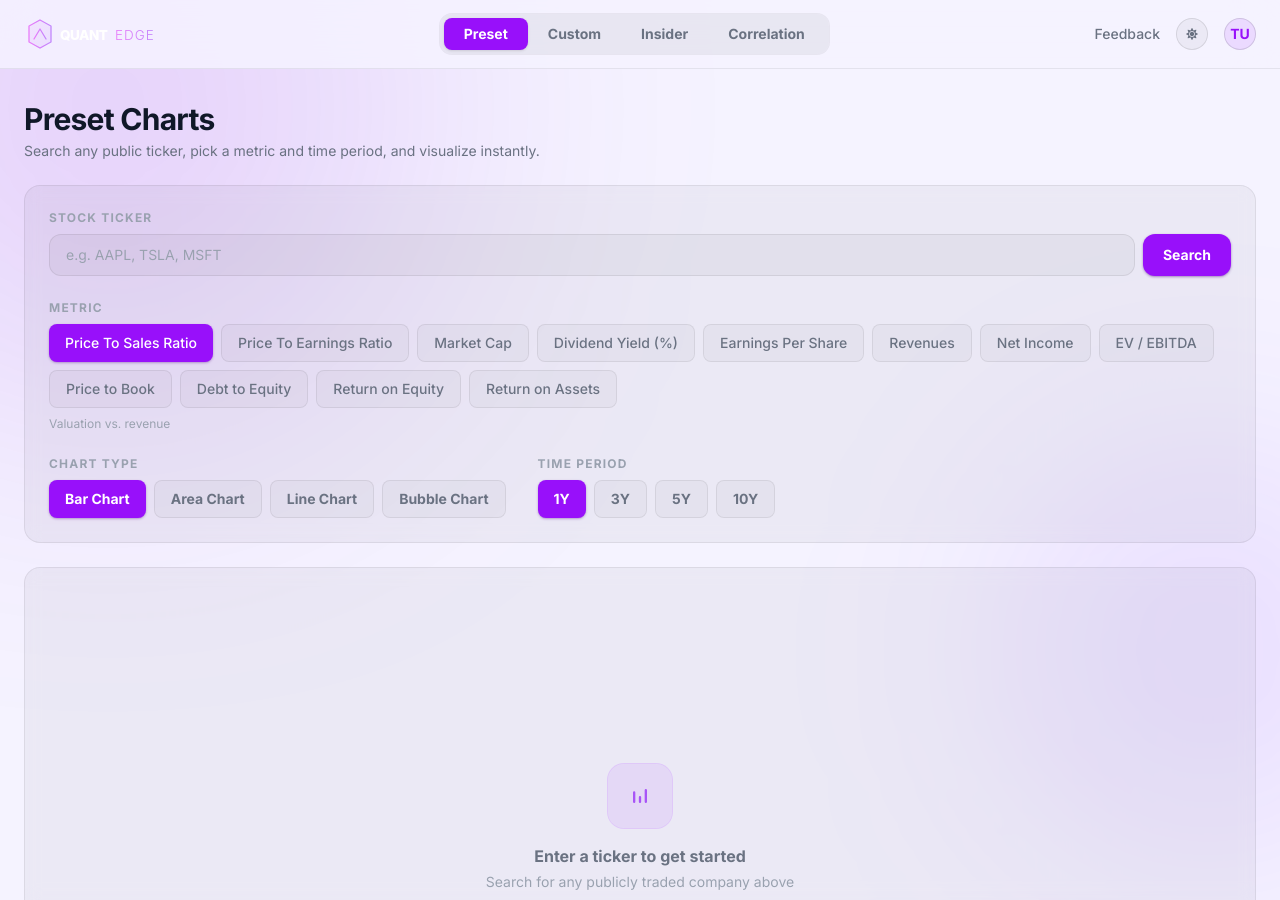
PresetChartsPage — bubble chart mode › shows "Add tickers to get started" empty state in bubble mode
Click the button "Bubble Chart". click: (444, 499)
box: [382, 480, 506, 518]
(page scrolled)
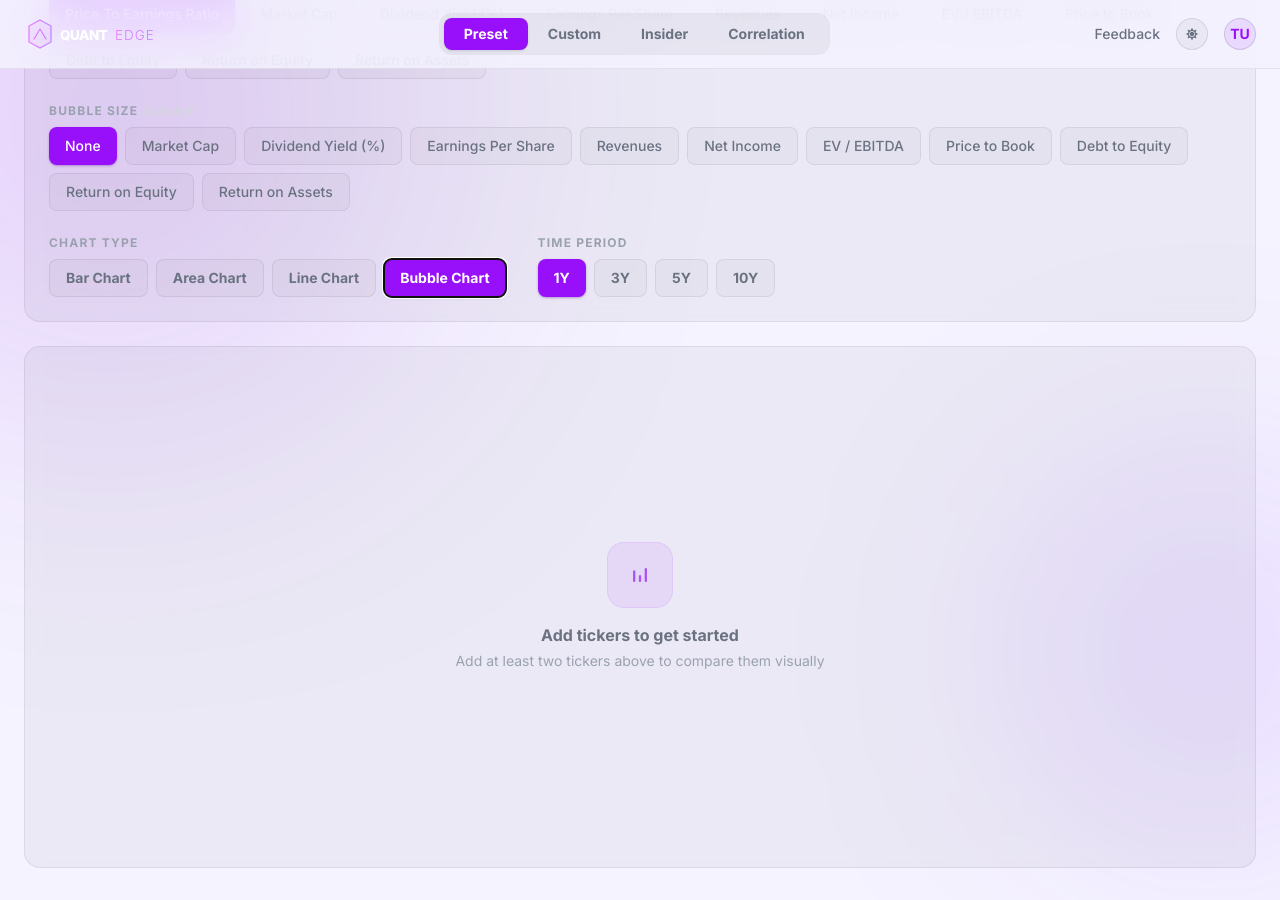
Now the text "Add tickers to get started" is shown, box [541, 625, 739, 645]
